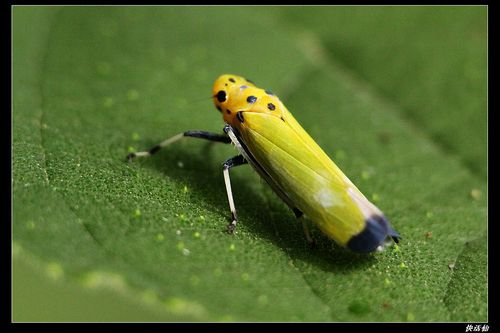Cicadellidae: (134, 72, 400, 253)
